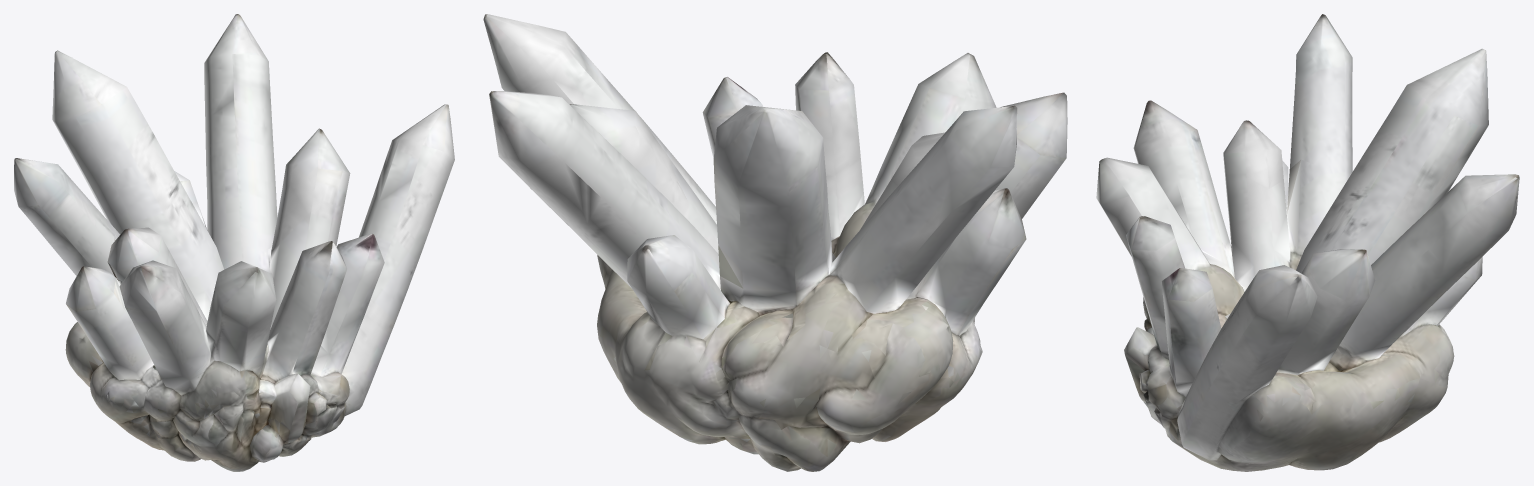
The model's file is quartz.glb.
3 renders of one model, left to right at view 1: azimuth 30°, elevation 25°; view 2: azimuth 150°, elevation 25°; view 3: azimuth 270°, elevation 25°, orthographic. The views are drawn at different scales.
Visible parts, largest first — view 1: quartz; view 2: quartz; view 3: quartz.
Boxes of the visible parts, <box> form: quartz: <box>14,14,454,471</box>; quartz: <box>483,14,1067,471</box>; quartz: <box>1096,14,1519,471</box>.
Bounding box in the file's own units: 1 × 0.773 × 0.8131.
1 material, 1 textured.
